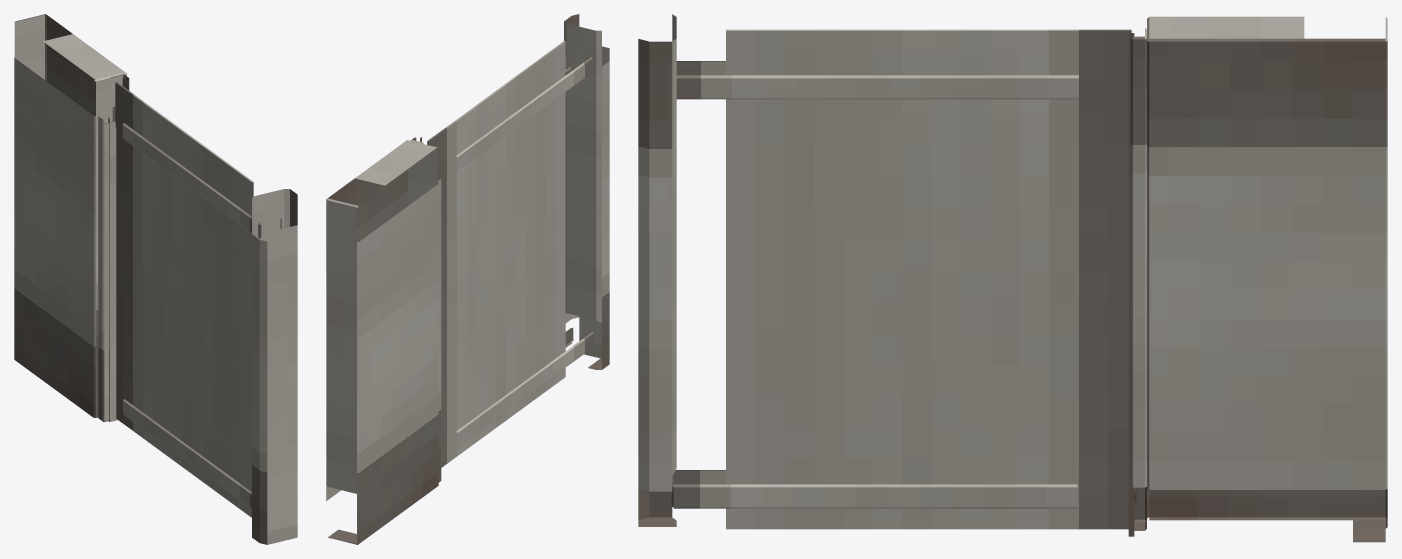
3 views of the same model, side by side, from view 1: azimuth 30°, elevation 25°; view 2: azimuth 150°, elevation 25°; view 3: azimuth 270°, elevation 25° (orthographic). The views are drawn at different scales.
Size of the model in its own units: 0.088 by 0.75 by 1.01.
